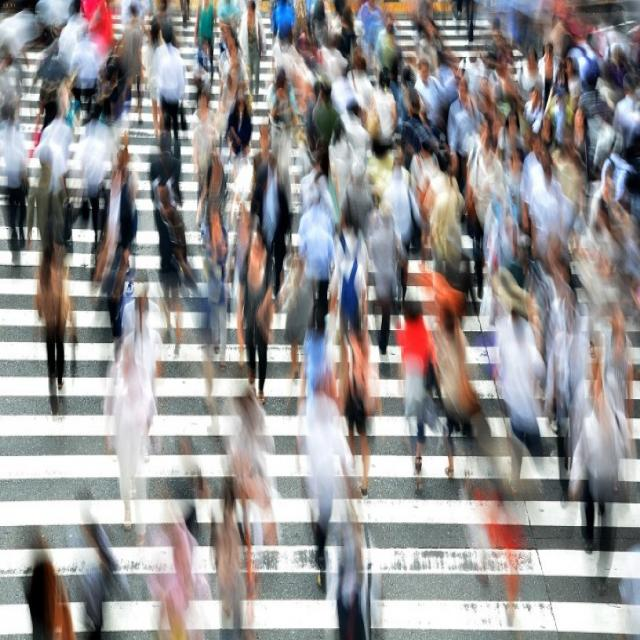body: (0, 0, 639, 363), (19, 363, 640, 639), (36, 234, 80, 420), (235, 227, 276, 411), (152, 182, 190, 358), (366, 198, 406, 358), (27, 144, 73, 281), (209, 475, 247, 639), (150, 22, 190, 166), (200, 201, 232, 373), (149, 127, 183, 274), (338, 157, 376, 253), (235, 0, 268, 106), (233, 208, 253, 366), (312, 78, 341, 180), (372, 11, 405, 88), (297, 188, 334, 252), (373, 65, 399, 148), (194, 0, 219, 83)
